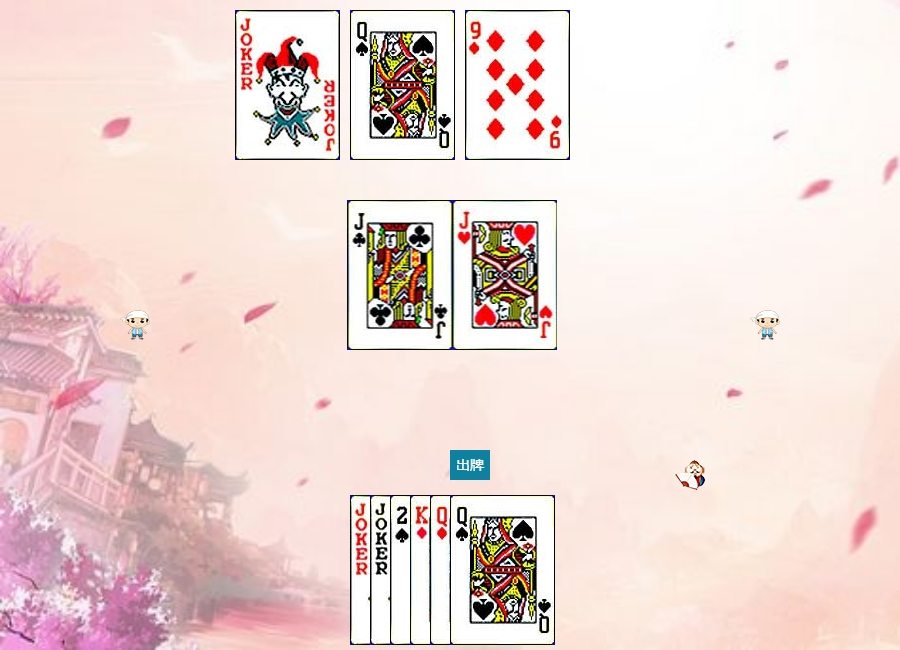11~2: (348, 200, 453, 350)
11~3: (453, 200, 558, 350)
12~1: (430, 495, 535, 645)
12~4: (350, 10, 455, 160), (450, 495, 555, 645)
13~1: (410, 495, 515, 645)
15~4: (390, 495, 495, 645)
17~3: (370, 495, 475, 645)
18~4: (235, 10, 340, 160), (350, 495, 455, 645)
9~1: (465, 10, 570, 160)
